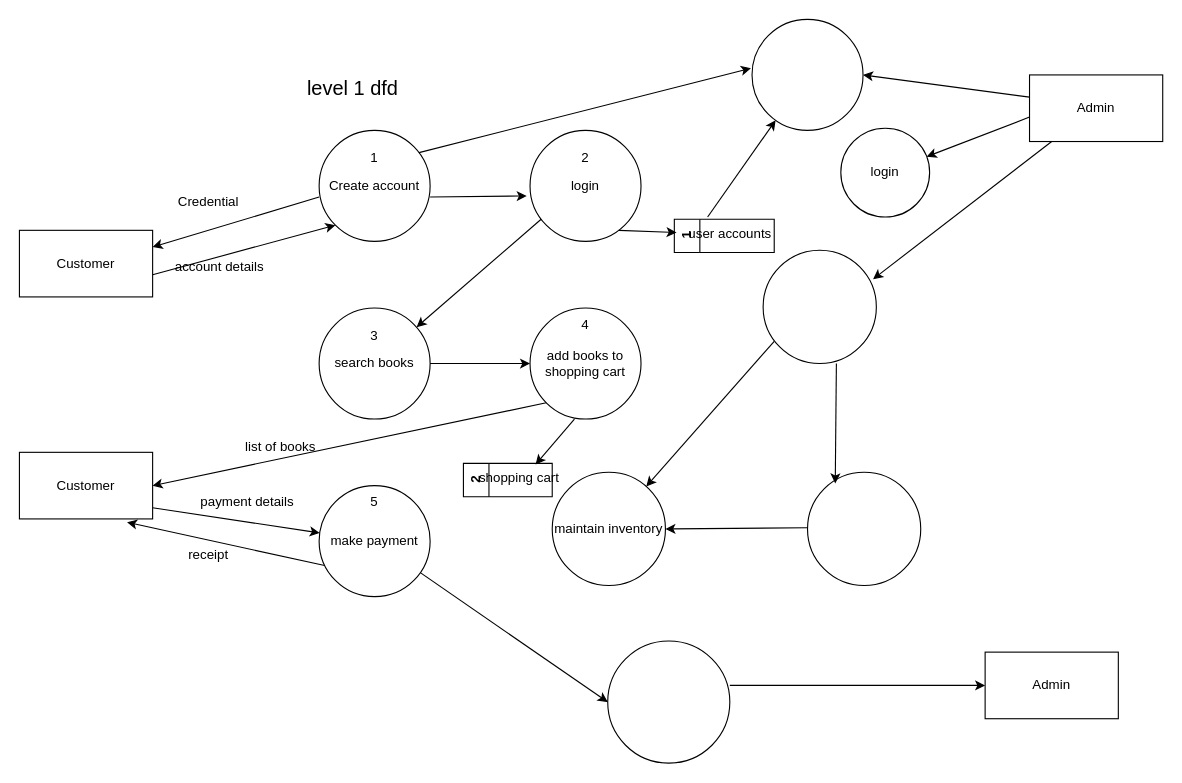
This 1182x783 diagram has some shape labels left out. Each missing label, with the centre of its shape:
add new book: the point at 819,306
calculate payments: the point at 668,701
manage user accounts: the point at 807,74
update existing books: the point at 863,528
